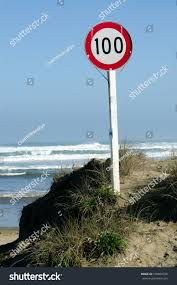Speed_limit_100km: (84, 22, 132, 70)
